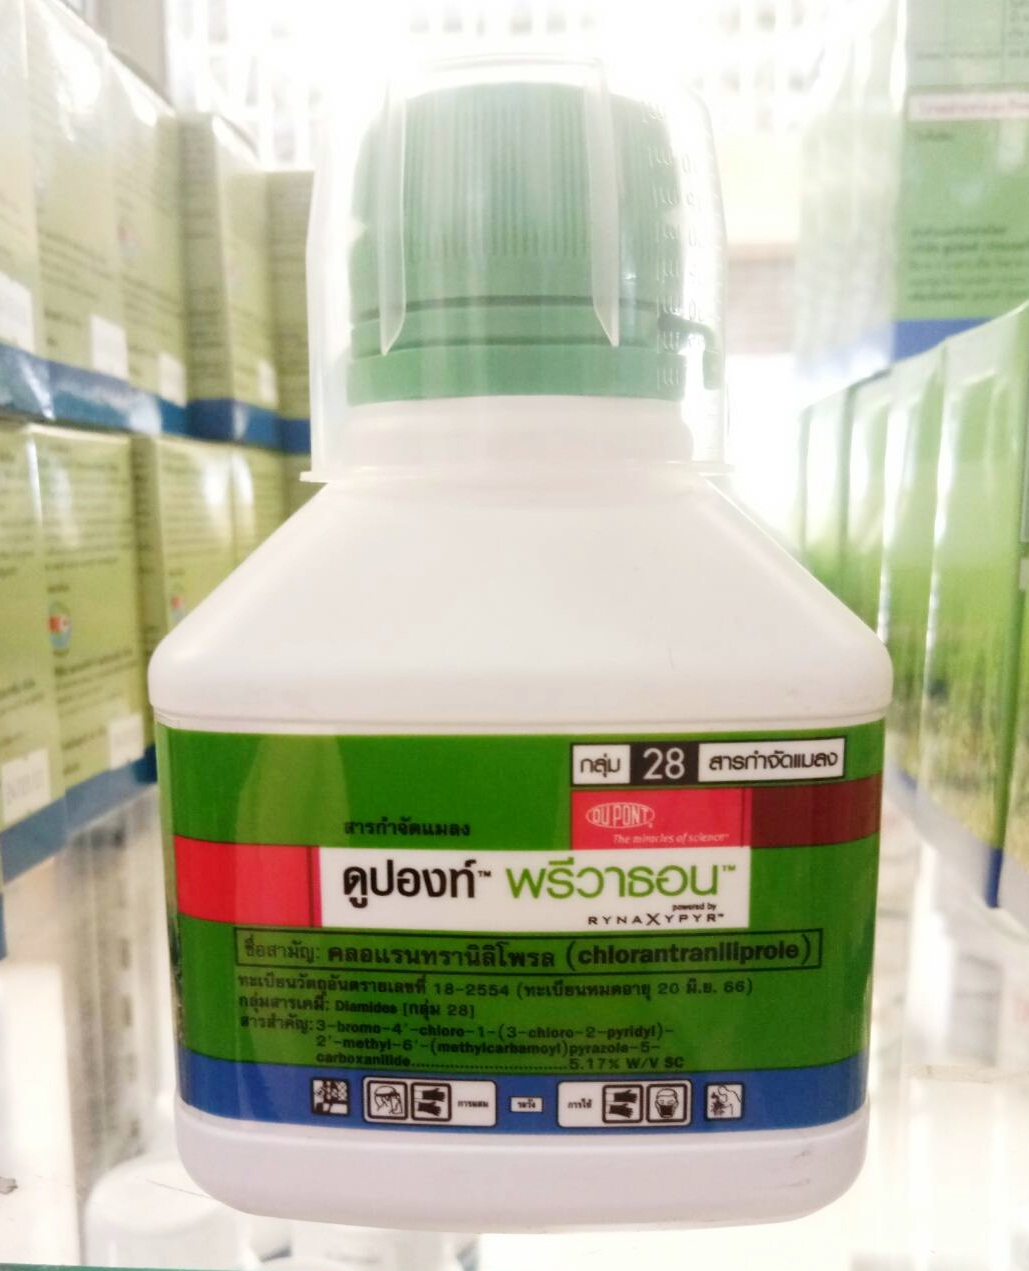Insecticide: (144, 45, 885, 1240)
